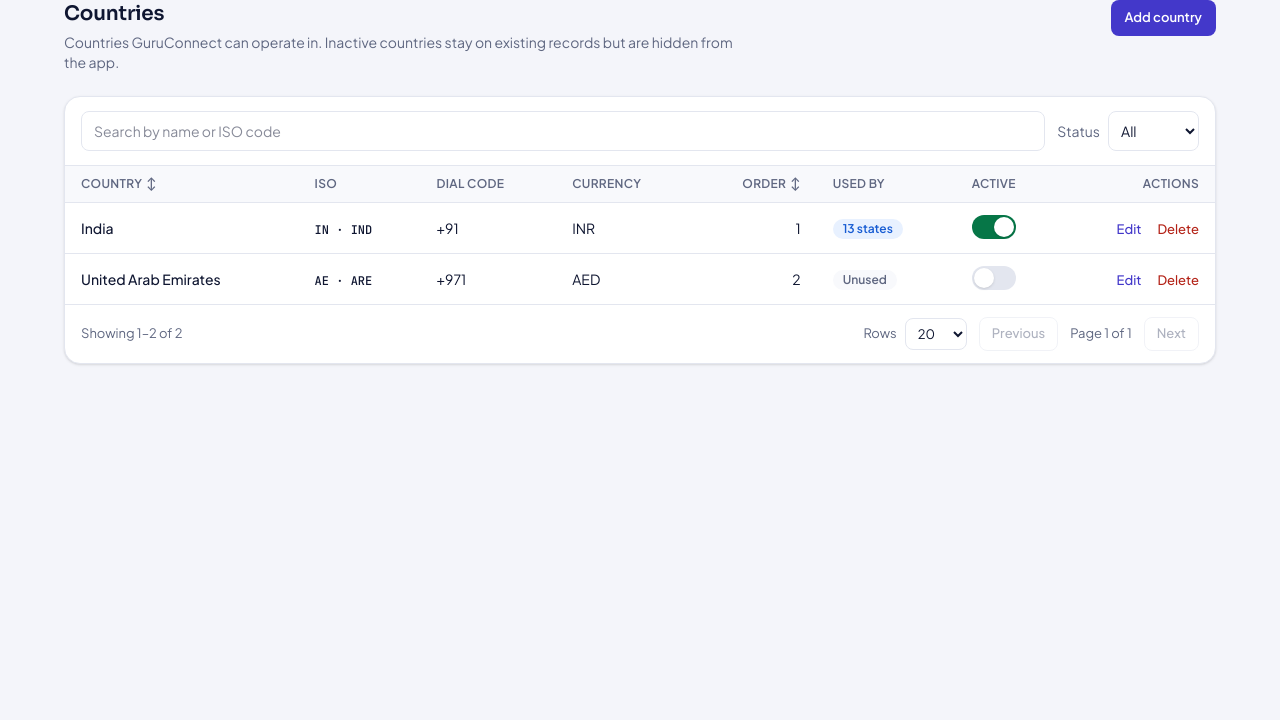
Test: MasterListPage — create and edit › opens the drawer prefilled to edit and sends the row version
The image size is (1280, 720).
Click the button with aria-label "Edit India" at (1129, 229), box [1117, 220, 1141, 238]
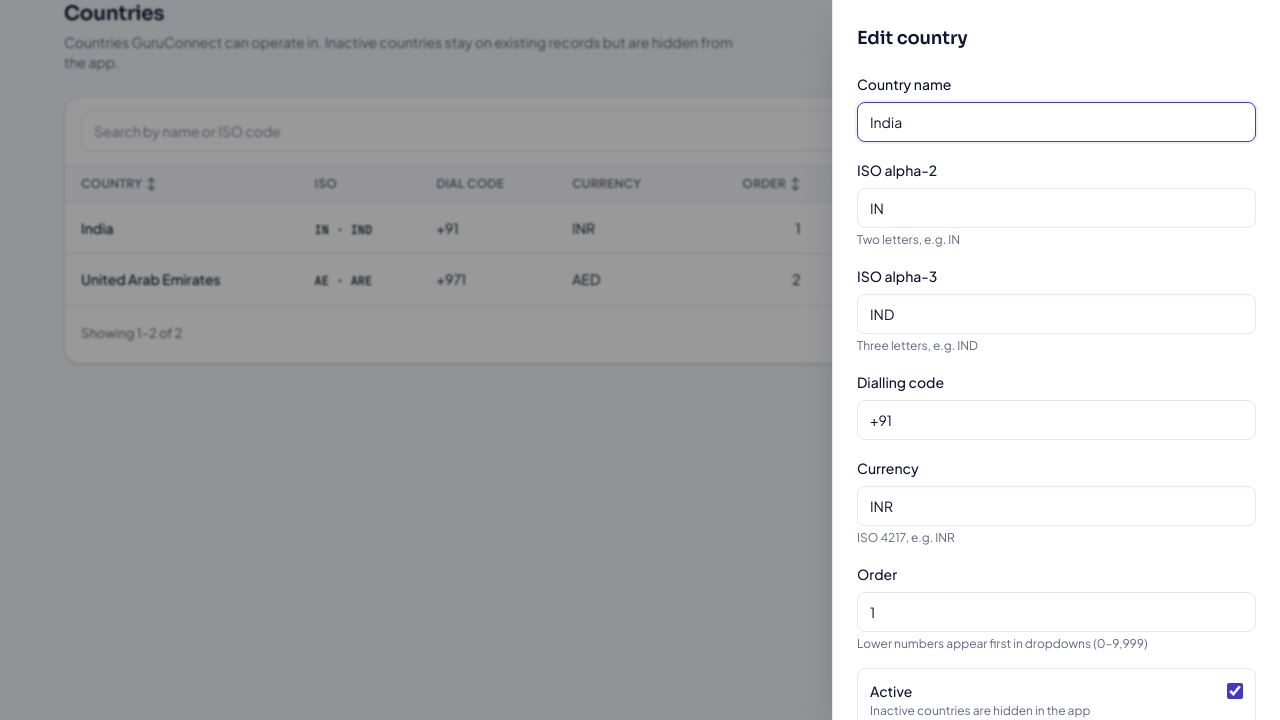
Expected: the field labelled "Country name" holds "India", [857, 102, 1256, 142]
Replace the text in the number field labelled "Order" with "9" at (1056, 612), box [857, 592, 1256, 632]
(page scrolled)
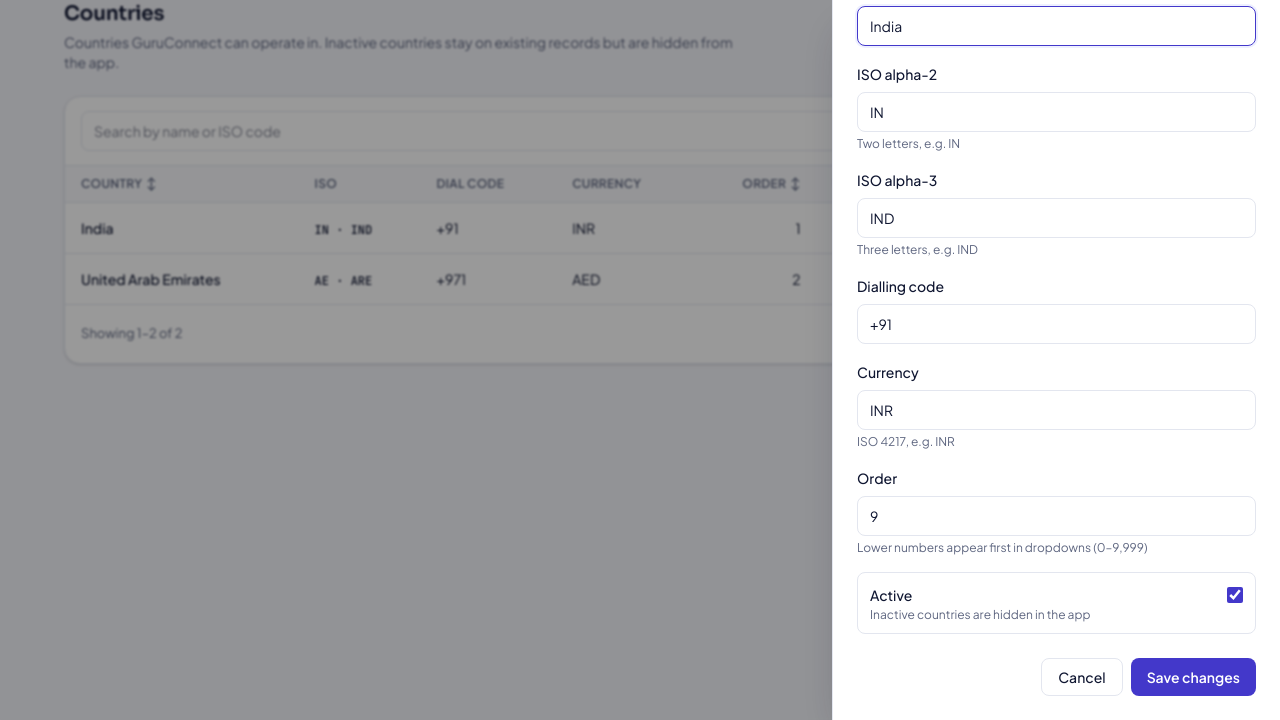
Click the button "Save changes" at (1193, 677), box [1131, 658, 1256, 696]
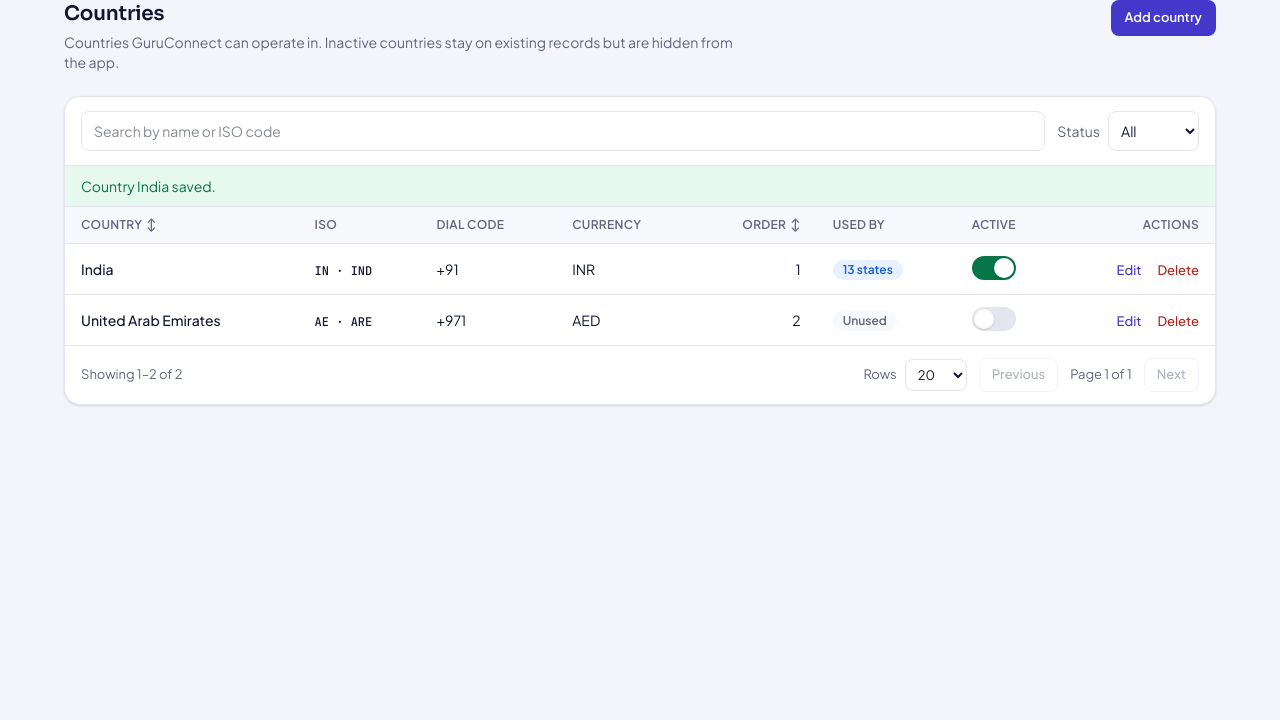
Expected: the message reads "Country India saved.", [81, 177, 216, 195]
